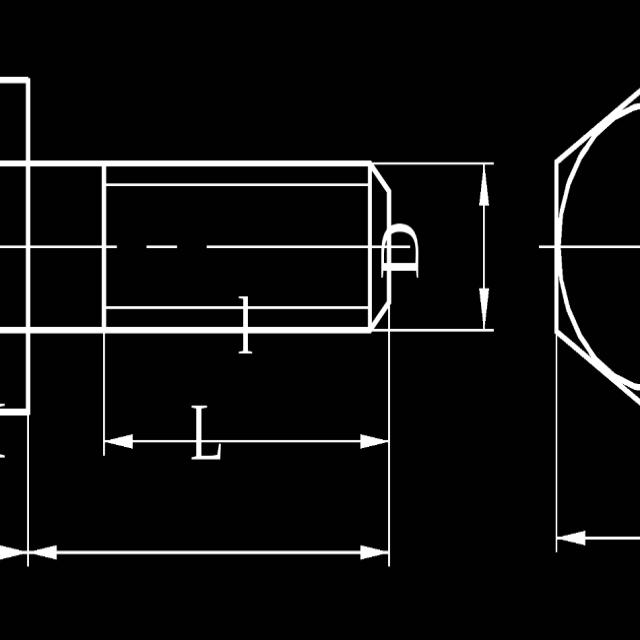marking_line: (33, 541, 391, 565), (106, 428, 387, 451), (474, 163, 492, 327), (558, 525, 640, 553)
